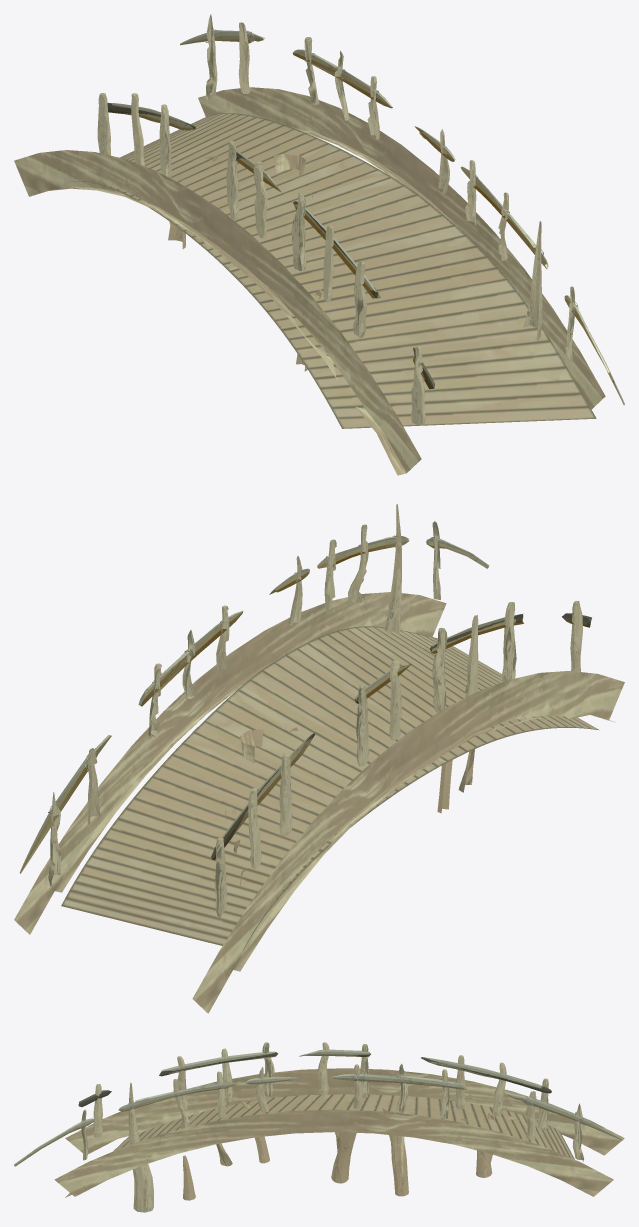
File: Bridge.glb
The picture shows the model from 3 angles, top to bottom: view 1: azimuth 30°, elevation 25°; view 2: azimuth 150°, elevation 25°; view 3: azimuth 270°, elevation 25°; orthographic projection. The views are drawn at different scales.
Parts seen in each view (by area): view 1: Plane, Cube.001, Poteaux_front, Cube, Rambarde_front, Retopo_Vert.011; view 2: Plane, Cube.001, Cube, Poteaux_front, Rambarde_front, Retopo_Vert.011; view 3: Cube, Cube.001, Poteaux_front, Plane, Rambarde_front, Retopo_Vert.011.
Part boxes in pixels (x1,y1,x2,y2): Plane: (68, 113, 596, 428); Cube.001: (14, 150, 421, 475); Poteaux_front: (97, 14, 574, 425); Cube: (198, 87, 605, 409); Rambarde_front: (107, 30, 624, 405); Retopo_Vert.011: (168, 153, 322, 371); Plane: (61, 626, 599, 950); Cube.001: (192, 671, 624, 1013); Cube: (14, 592, 446, 934); Poteaux_front: (48, 504, 582, 917); Rambarde_front: (19, 536, 591, 873); Retopo_Vert.011: (225, 727, 474, 886); Cube: (54, 1109, 613, 1196); Cube.001: (65, 1068, 624, 1155); Poteaux_front: (81, 1042, 583, 1212); Plane: (65, 1094, 574, 1197); Rambarde_front: (14, 1049, 622, 1166); Retopo_Vert.011: (183, 1101, 519, 1200).
Size of the model in its own units: 3.79 by 3.89 by 14.3.
6 materials, 6 textured.
